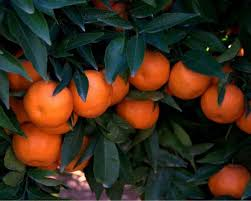orange: (25, 77, 73, 129), (65, 68, 113, 116), (14, 123, 63, 166), (200, 157, 250, 198), (169, 56, 213, 101), (202, 82, 245, 123), (130, 47, 170, 90), (117, 93, 161, 131)
